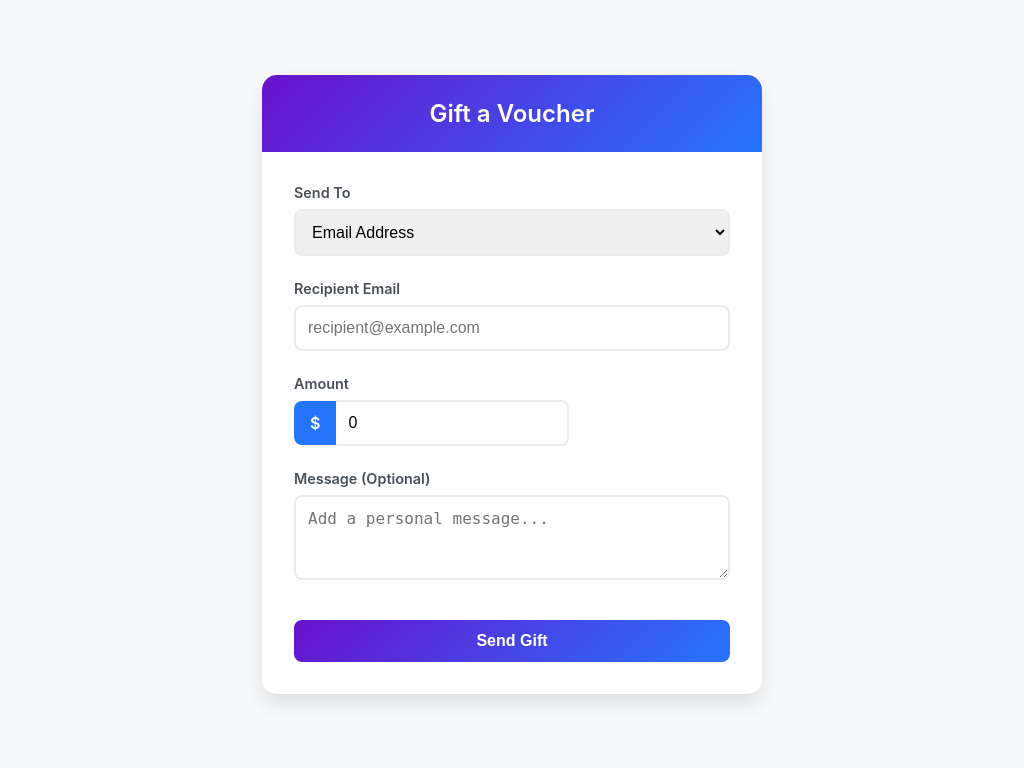
Test case: VoucherForm › should show confirmation modal for high-value vouchers
Fill out the form with high value
Type "test@example.com" into the field labelled "Recipient Email" at (512, 328), box top-left (294, 304), bottom-right (730, 350)
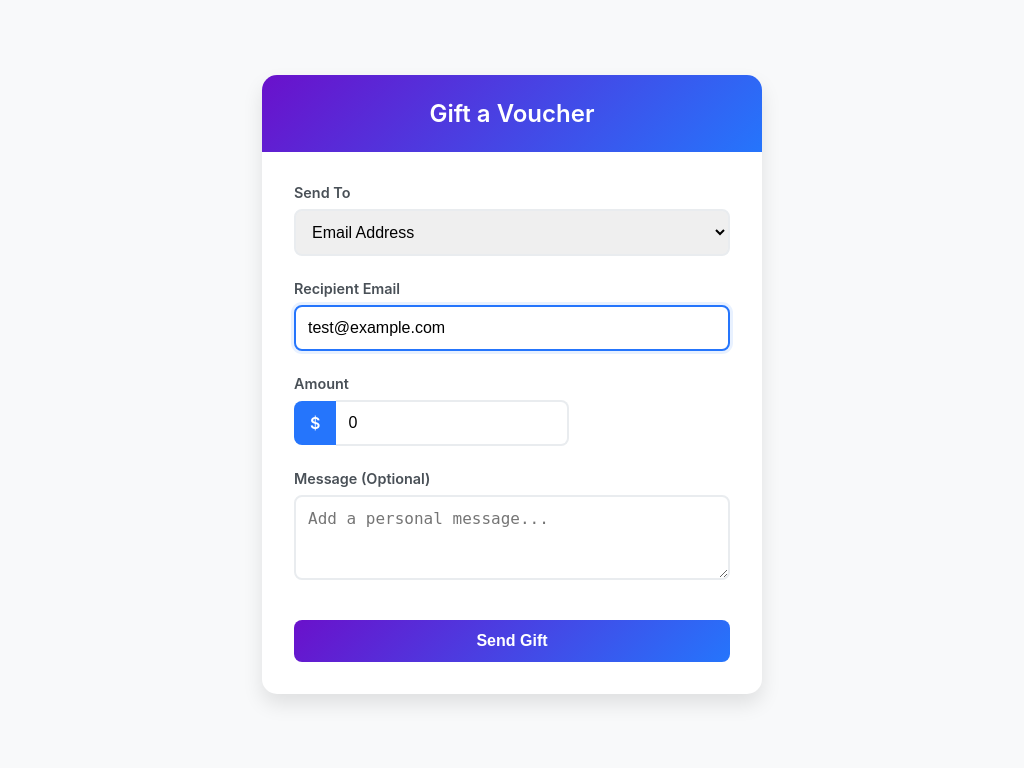
Type "2000" into the number field labelled "Amount" at (453, 422), box top-left (336, 400), bottom-right (569, 446)
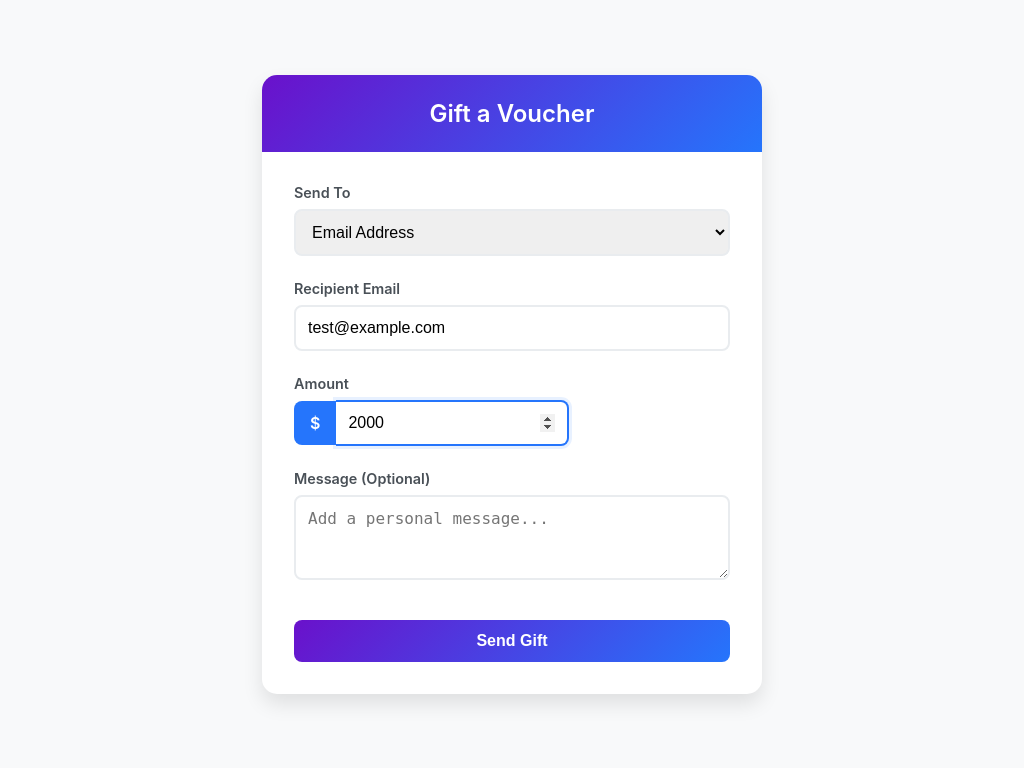
Submit the form
Click the button "Send Gift" at (512, 640), box top-left (294, 620), bottom-right (730, 662)
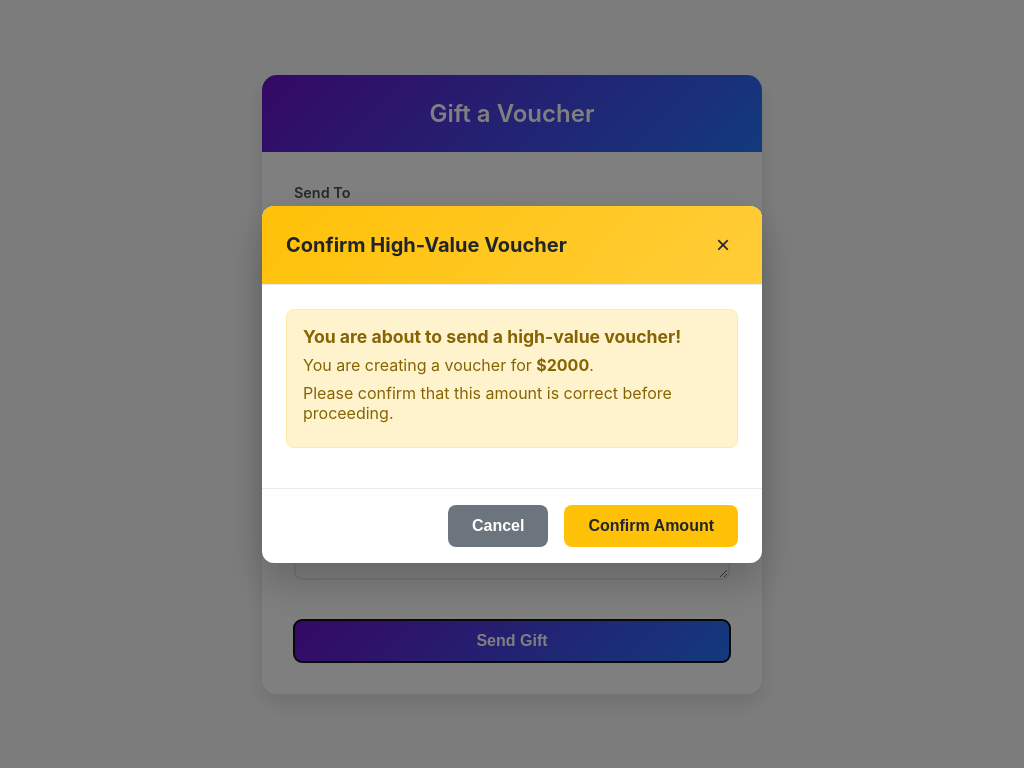
Check: the heading "Confirm High-Value Voucher" is shown, box top-left (286, 232), bottom-right (567, 256)
Check: the text "You are creating a voucher for $2000." is shown, box top-left (303, 354), bottom-right (594, 374)
Check: the text "$2000" is shown, box top-left (536, 354), bottom-right (589, 374)
